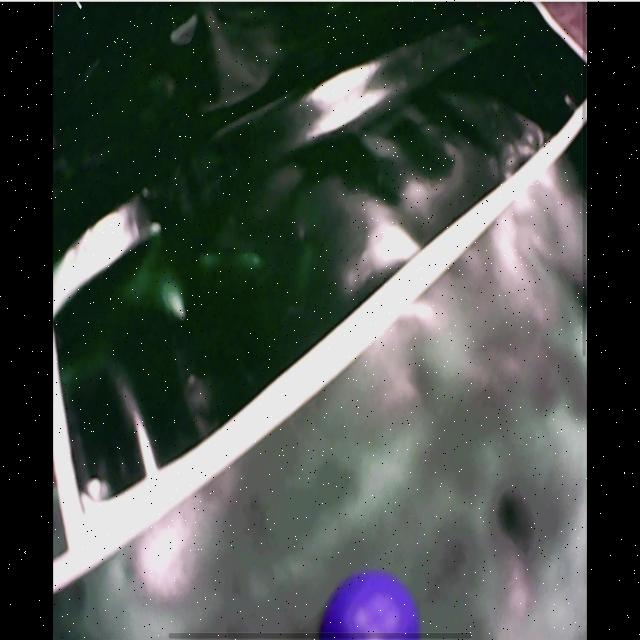ball: (320, 571, 420, 640)
